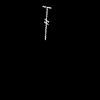treble_crochet: (43, 6, 49, 38)
